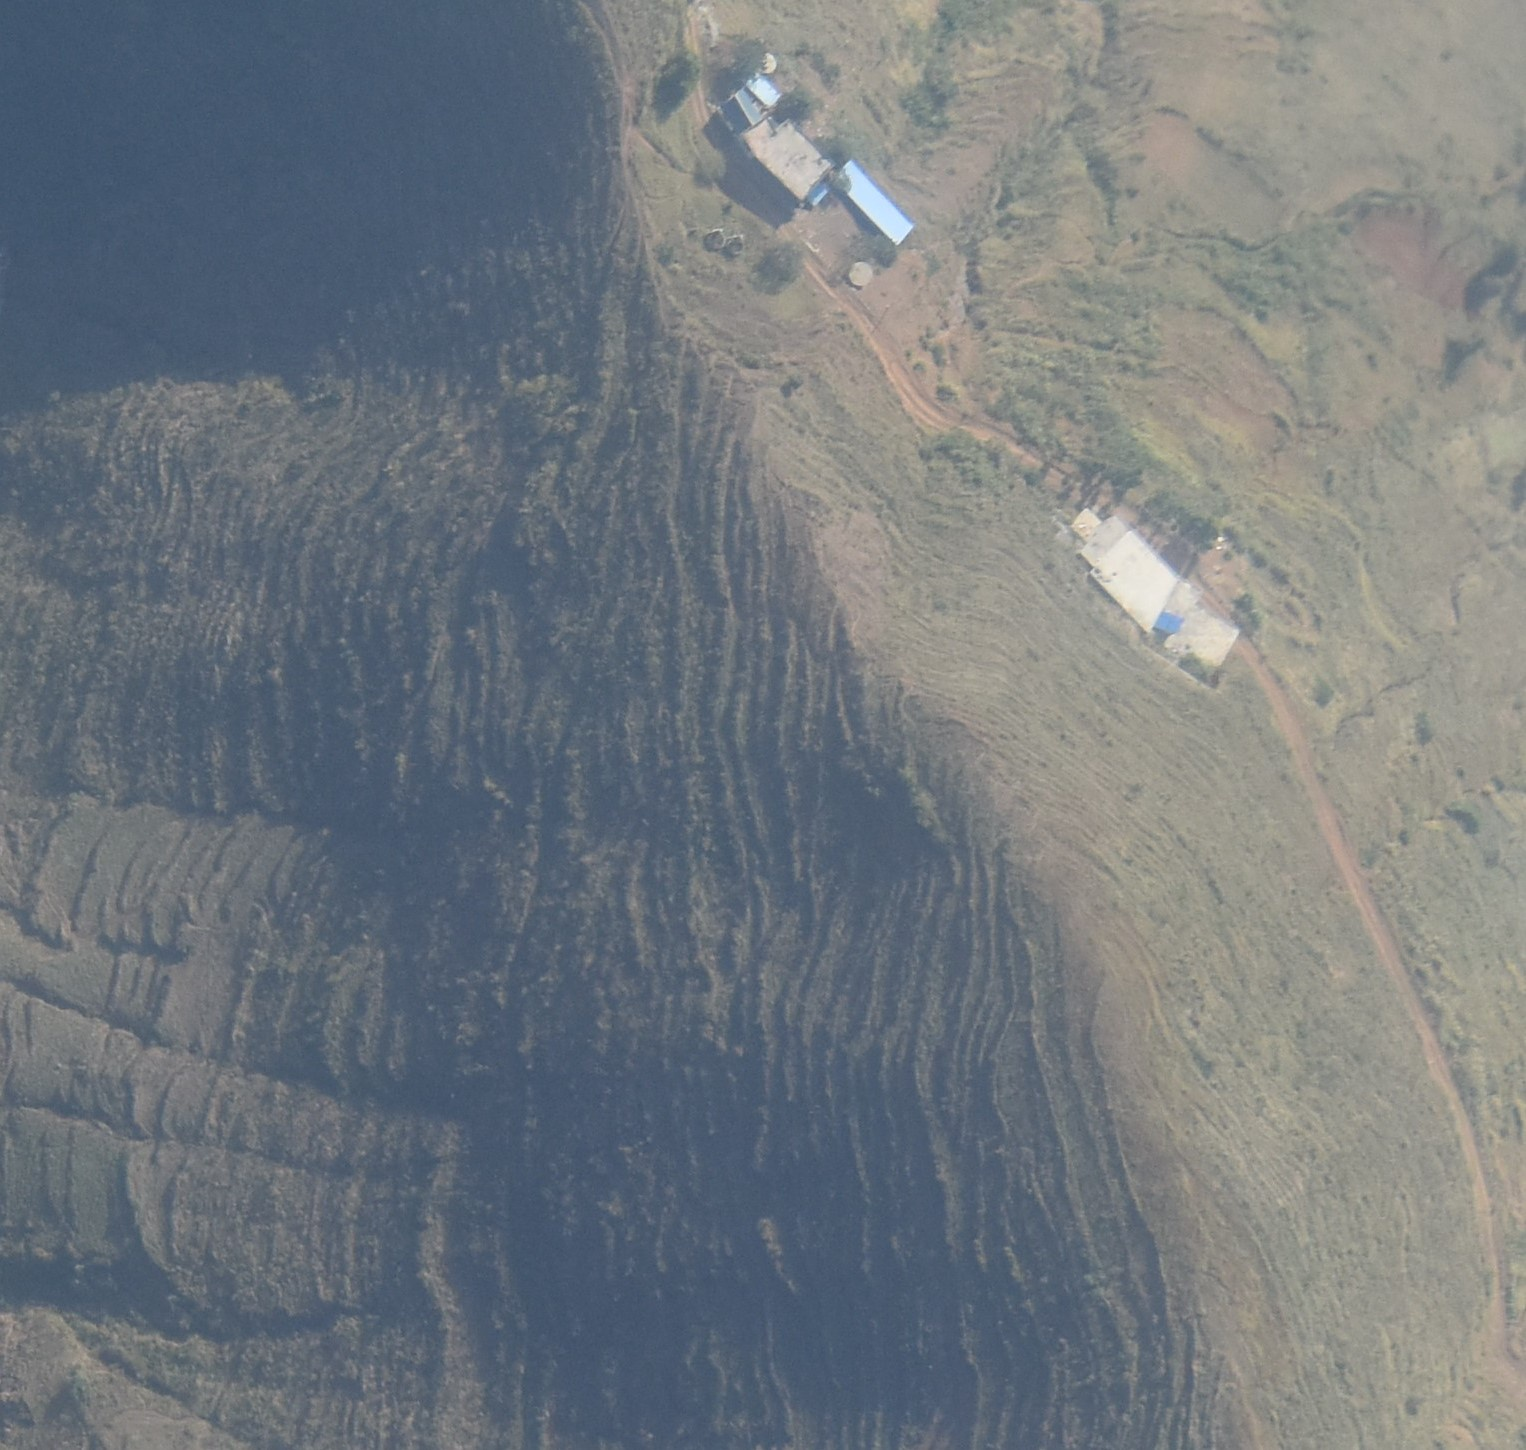building: (1071, 507, 1239, 679), (740, 119, 832, 198)
prefabricated-house: (837, 159, 916, 245), (723, 89, 763, 134), (747, 78, 779, 108), (807, 180, 830, 206)
well: (849, 262, 873, 286), (756, 50, 777, 75)
